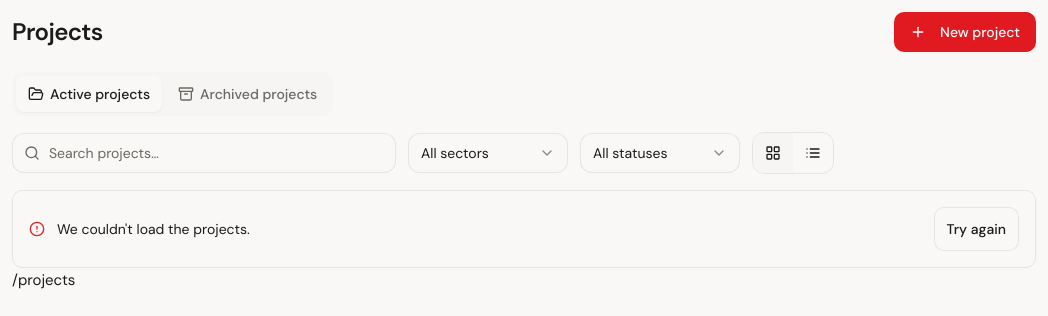
Test case: Active and archived projects › shows a failed request as an error with Try again, never as an empty list
The width and height of the screenshot is (1048, 316).
Expected: the message shows "We couldn't load the projects.", [57,220,250,238]
Click the button "Try again" at coordinates (976, 229), box [934,207,1019,251]
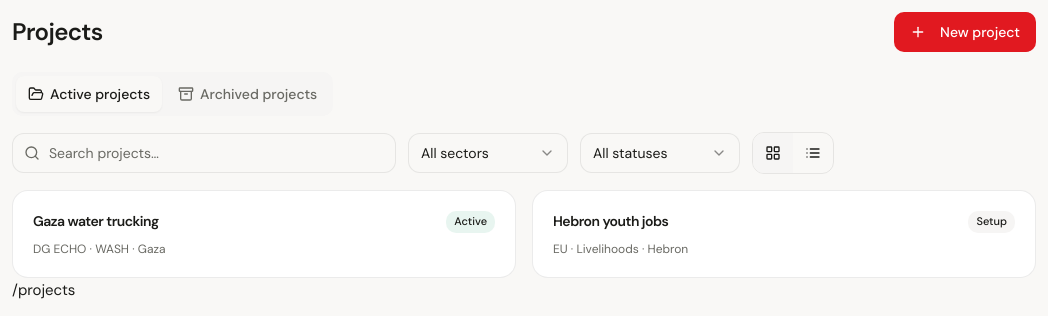
Expected: the heading "Gaza water trucking" is shown, [33,211,159,231]
